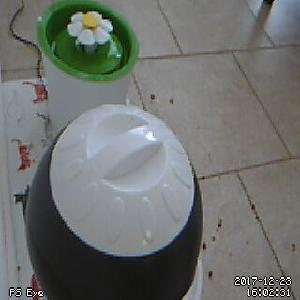fountain: (34, 1, 140, 82)
